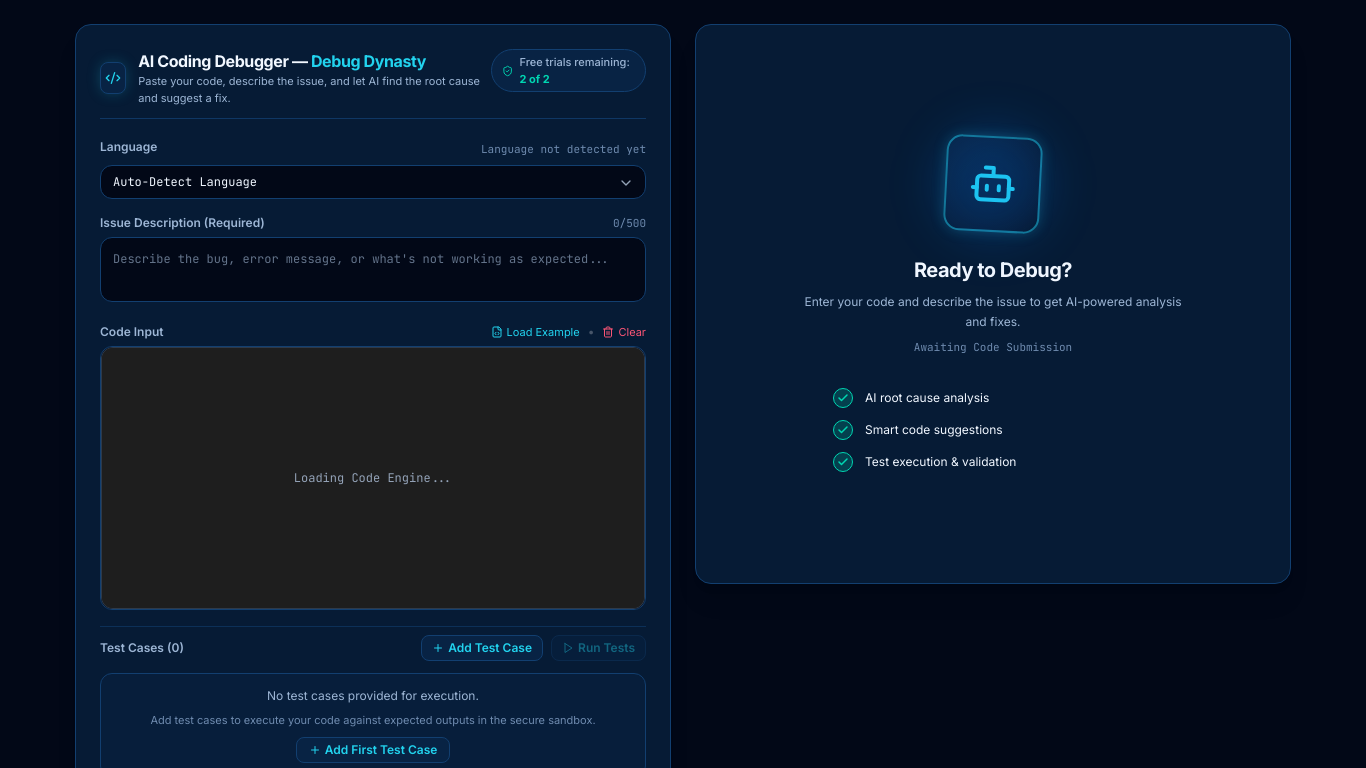
Test: DebuggerPage Workspace Component › loads example code when clicking "Load Example"
Click the button "Load Example": [535, 332] box [490, 324, 580, 340]
(page scrolled)
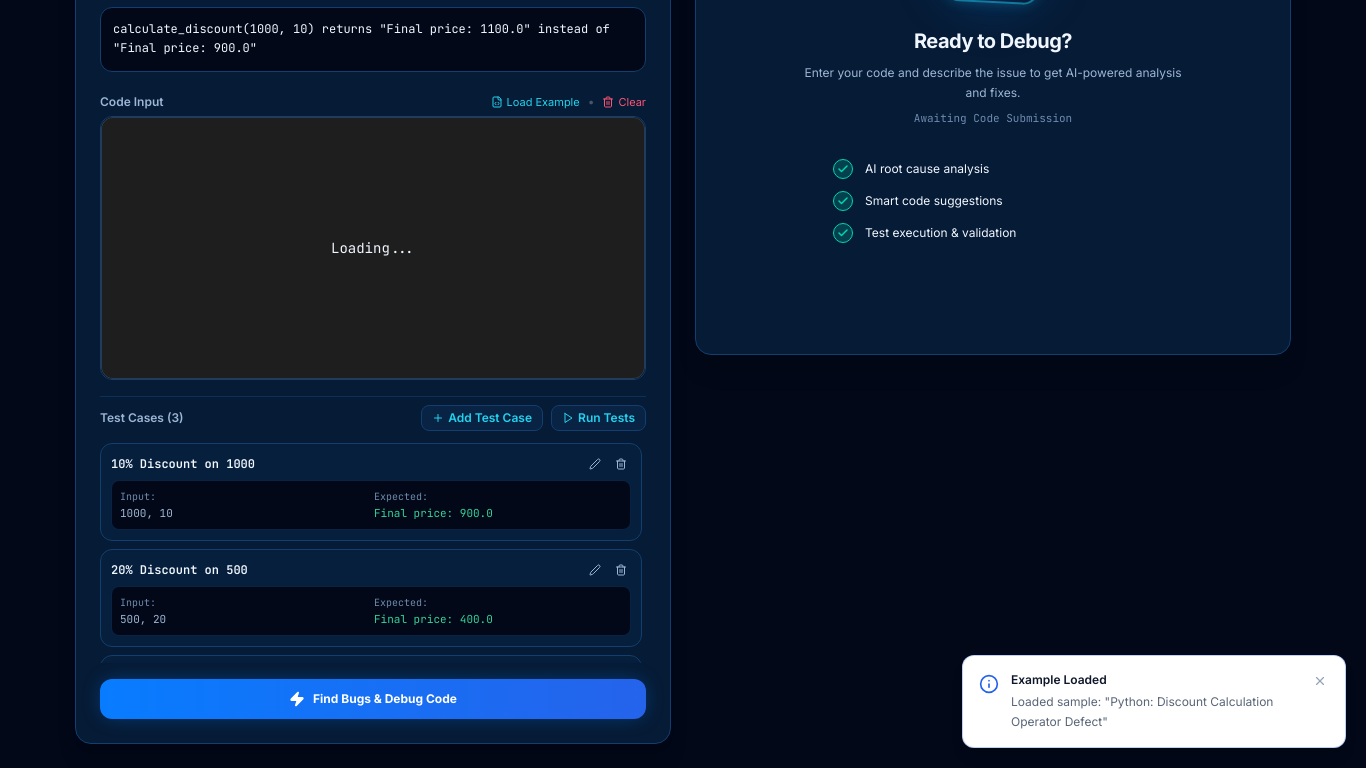
Expected: the button named "Debug My Code" is enabled, [100, 678, 646, 718]
